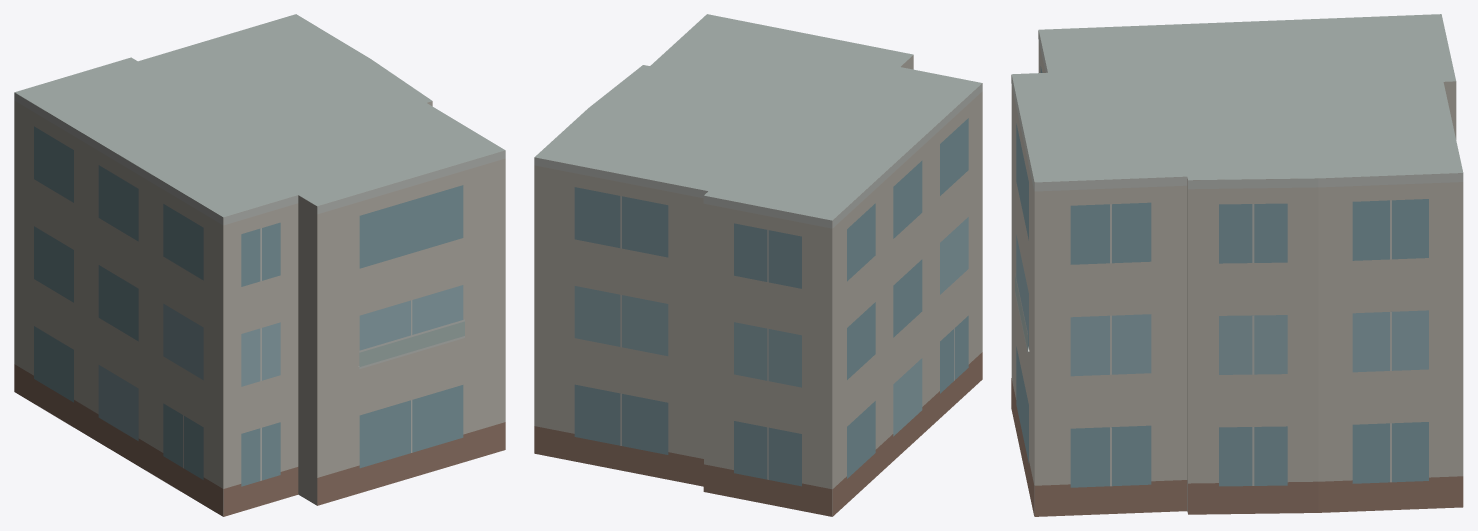
Rendered from survey-upis-32615270.glb.
The picture shows the model from 3 angles, left to right: view 1: azimuth 30°, elevation 25°; view 2: azimuth 150°, elevation 25°; view 3: azimuth 270°, elevation 25°; orthographic projection. The views are drawn at different scales.
Parts seen in each view (by area): view 1: survey-upis-32615270.tmp; view 2: survey-upis-32615270.tmp; view 3: survey-upis-32615270.tmp.
Part boxes in pixels (left/top/right/bottom): survey-upis-32615270.tmp: left=14, top=14, right=505, bottom=516; survey-upis-32615270.tmp: left=534, top=14, right=982, bottom=516; survey-upis-32615270.tmp: left=1011, top=14, right=1463, bottom=516.
Bounding box in the file's own units: 9.73 × 9 × 11.03.
